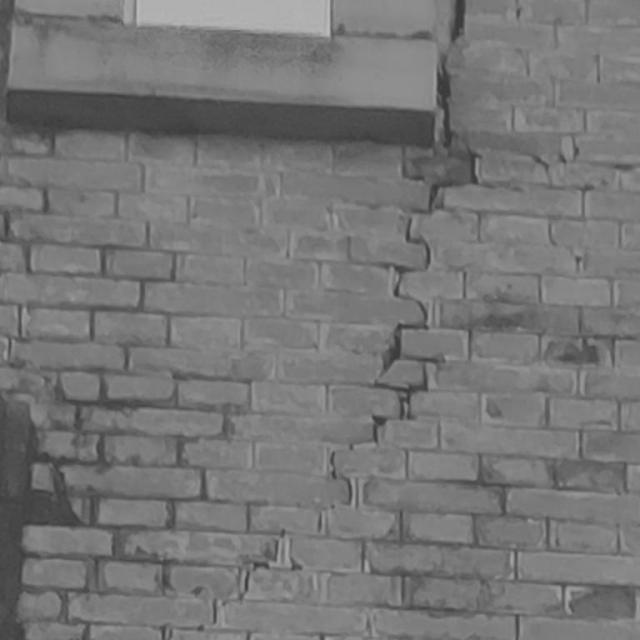crack: (160, 1, 481, 640)
